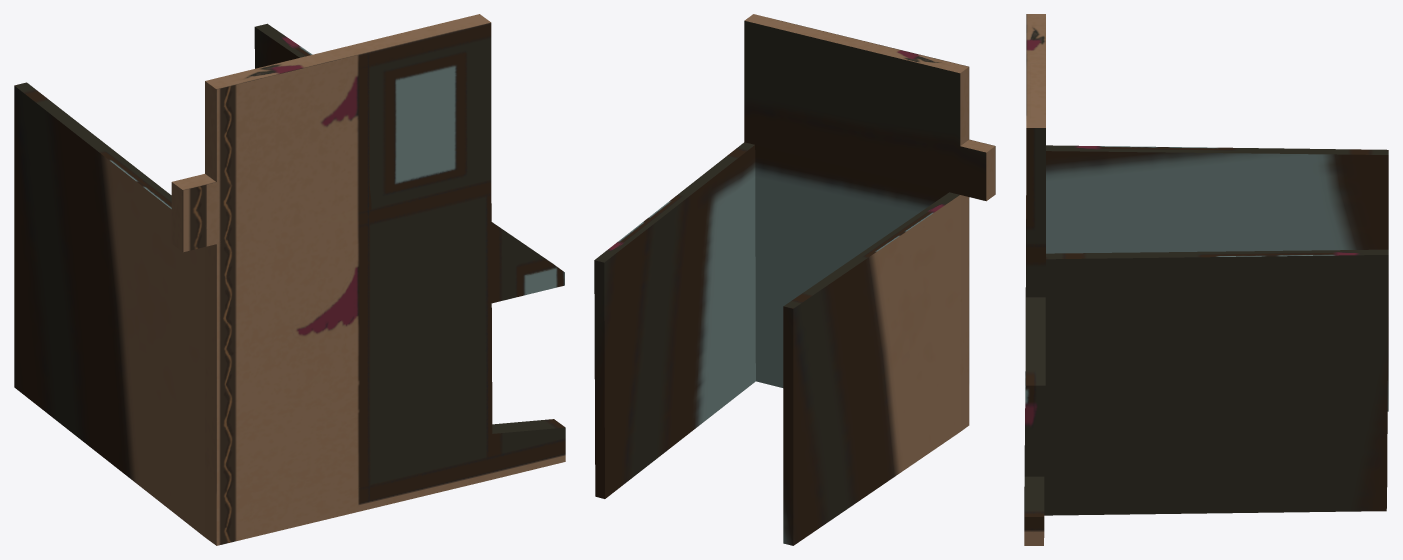
File: House1_Box.fbx
3 views of the same model, side by side, from view 1: azimuth 30°, elevation 25°; view 2: azimuth 150°, elevation 25°; view 3: azimuth 270°, elevation 25° (orthographic). The views are drawn at different scales.
Parts seen in each view (by area): view 1: CB_House1; view 2: CB_House1; view 3: CB_House1.
Boxes of the visible parts, x1,y1,x2,y2 form: CB_House1: (14, 14, 565, 545); CB_House1: (594, 14, 995, 545); CB_House1: (1024, 14, 1388, 545).
Size of the model in its own units: 4.17 by 4.76 by 4.06.
1 material, 1 textured.
